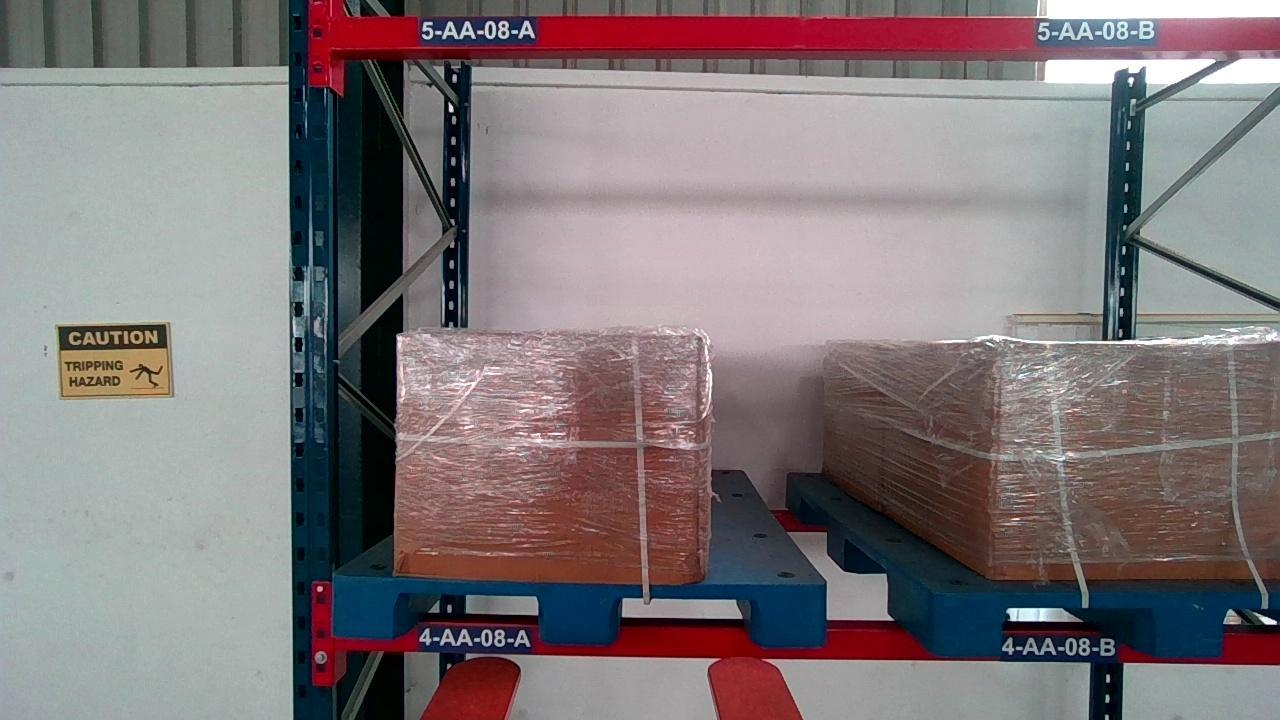h_rack: (332, 618, 1280, 663), (330, 14, 1280, 47)
small_pallet: (336, 576, 825, 648), (947, 590, 1274, 655)
